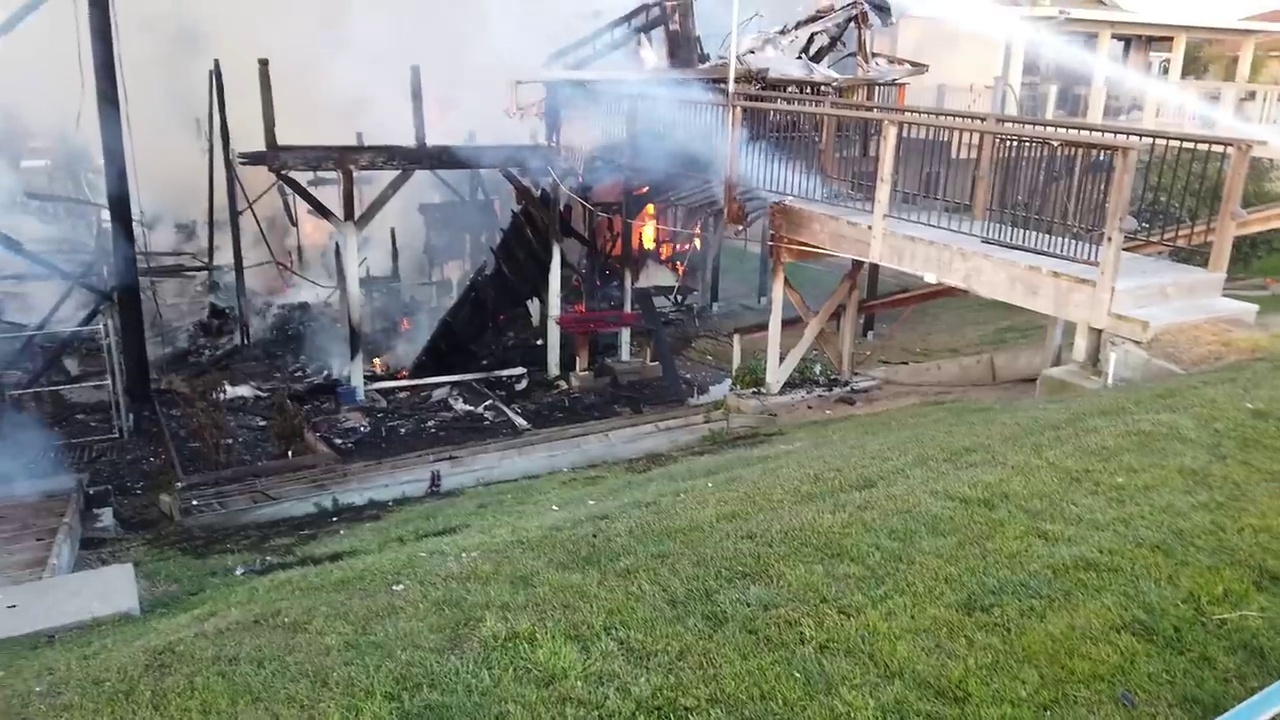fire: (626, 182, 676, 261), (677, 220, 716, 254), (567, 298, 615, 320), (390, 314, 419, 335), (391, 361, 417, 381)
smoke: (1, 1, 730, 180), (135, 190, 386, 398), (1, 185, 115, 512), (310, 172, 520, 307), (732, 138, 821, 198)
